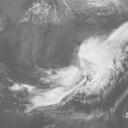cyclone: (47, 37, 115, 96)
